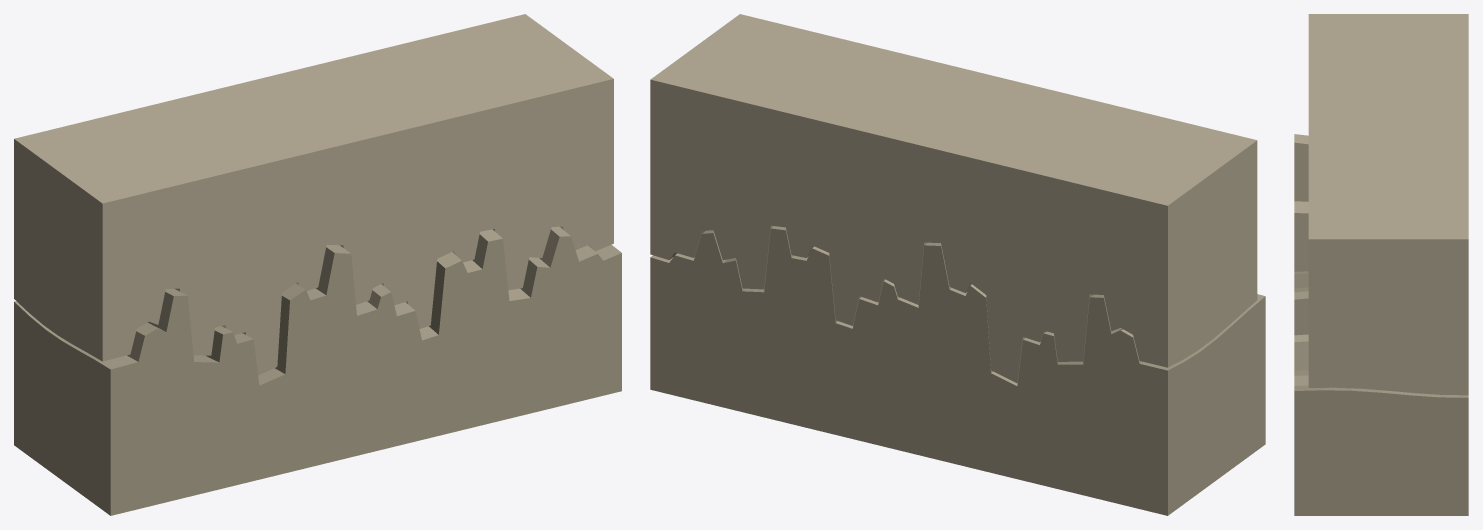
The model's file is stylolite-seam-section.glb.
3 views of the same model, side by side, from view 1: azimuth 30°, elevation 25°; view 2: azimuth 150°, elevation 25°; view 3: azimuth 270°, elevation 25° (orthographic). The views are drawn at different scales.
Parts seen in each view (by area): view 1: upper-rock-with-real-complementary-unequal-dissolution-teeth, lower-rock-with-real-complementary-unequal-dissolution-teeth; view 2: upper-rock-with-real-complementary-unequal-dissolution-teeth, lower-rock-with-real-complementary-unequal-dissolution-teeth; view 3: upper-rock-with-real-complementary-unequal-dissolution-teeth, lower-rock-with-real-complementary-unequal-dissolution-teeth.
Part boxes in pixels (x1=…): upper-rock-with-real-complementary-unequal-dissolution-teeth: x1=14, y1=14, x2=613, y2=375; lower-rock-with-real-complementary-unequal-dissolution-teeth: x1=14, y1=226, x2=621, y2=515; upper-rock-with-real-complementary-unequal-dissolution-teeth: x1=650, y1=14, x2=1257, y2=383; lower-rock-with-real-complementary-unequal-dissolution-teeth: x1=650, y1=226, x2=1265, y2=515; upper-rock-with-real-complementary-unequal-dissolution-teeth: x1=1308, y1=14, x2=1468, y2=395; lower-rock-with-real-complementary-unequal-dissolution-teeth: x1=1294, y1=134, x2=1468, y2=515.
Bounding box in the file's own units: 0.55 × 0.315 × 0.18.
